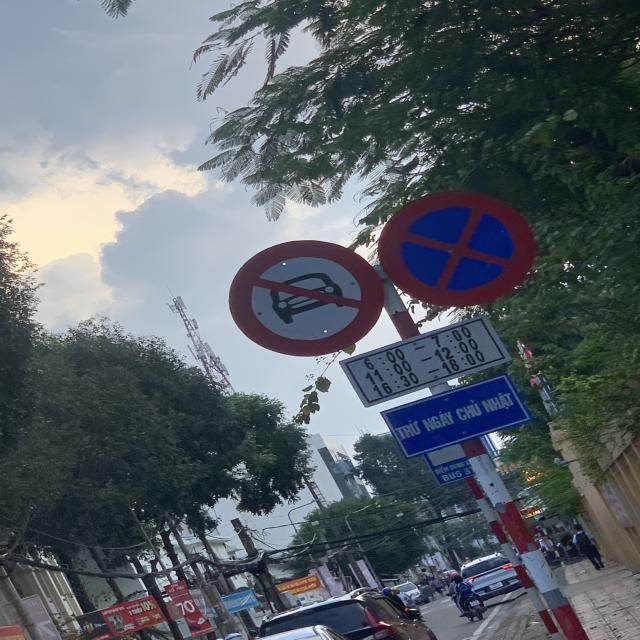Cam_Dung_Va_Dau_Xe: (378, 192, 536, 308)
Cam_O_To: (228, 239, 384, 358)
